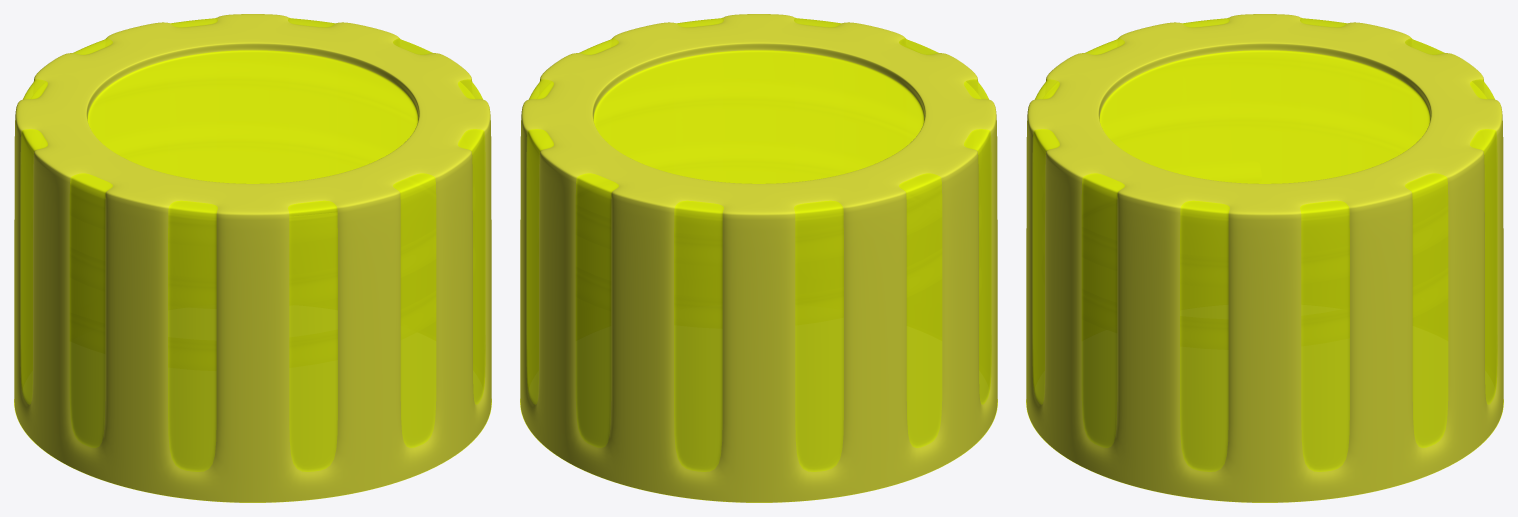
The model's file is Cap5.glb.
3 renders of one model, left to right at view 1: azimuth 30°, elevation 25°; view 2: azimuth 150°, elevation 25°; view 3: azimuth 270°, elevation 25°, orthographic.
Visible parts, largest first — view 1: Circle.001; view 2: Circle.001; view 3: Circle.001.
Part boxes in pixels (x1,y1,x2,y2): Circle.001: (14, 14, 491, 502); Circle.001: (520, 14, 997, 502); Circle.001: (1026, 14, 1503, 502).
Size of the model in its own units: 0.03 by 0.02 by 0.03.
